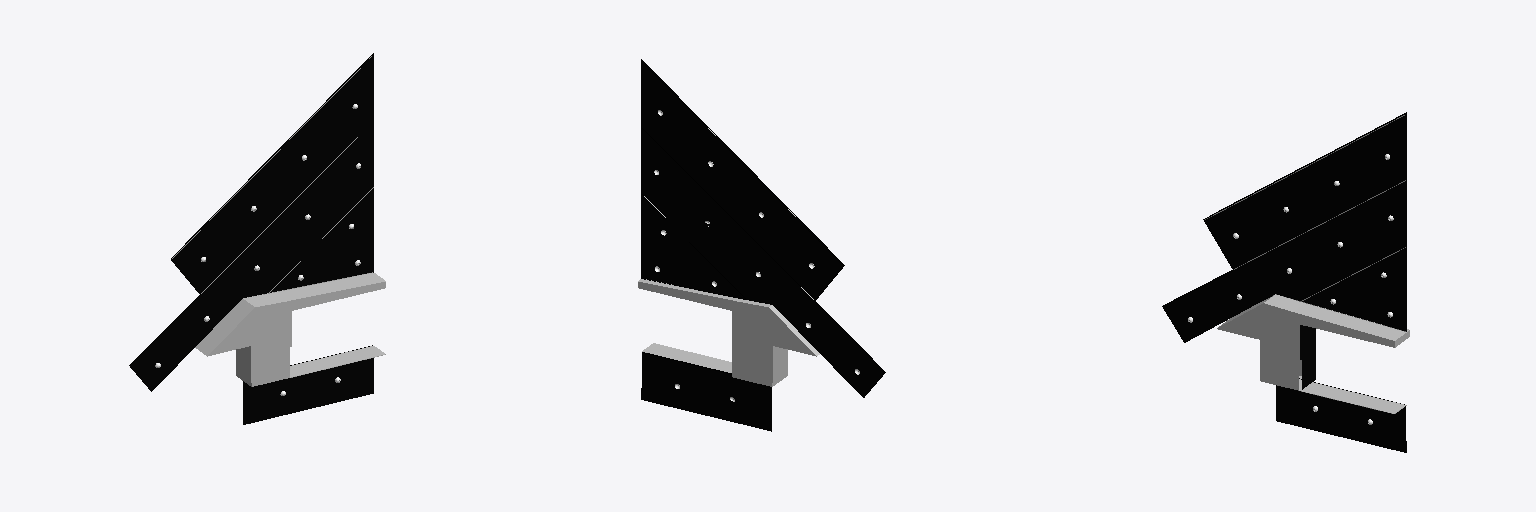
File: hall_roof.obj
The picture shows the model from 3 angles: view 1: azimuth 30°, elevation 25°; view 2: azimuth 150°, elevation 25°; view 3: azimuth 330°, elevation 25°; orthographic projection.
Visible parts, largest first — view 1: entery_roof.002_Plane.002, entery_roof.001_Plane.001; view 2: entery_roof.002_Plane.002, entery_roof.001_Plane.001, entery_roof_Plane.045; view 3: entery_roof.002_Plane.002, entery_roof.001_Plane.001.
Boxes of the visible parts, <box> form: entery_roof.002_Plane.002: <box>129,53,373,424</box>; entery_roof.001_Plane.001: <box>172,56,385,386</box>; entery_roof.002_Plane.002: <box>641,59,885,431</box>; entery_roof.001_Plane.001: <box>638,128,819,386</box>; entery_roof_Plane.045: <box>642,65,842,374</box>; entery_roof.002_Plane.002: <box>1162,112,1406,452</box>; entery_roof.001_Plane.001: <box>1205,115,1409,413</box>.
Bounding box in the file's own units: 11.71 × 15.57 × 1.29.